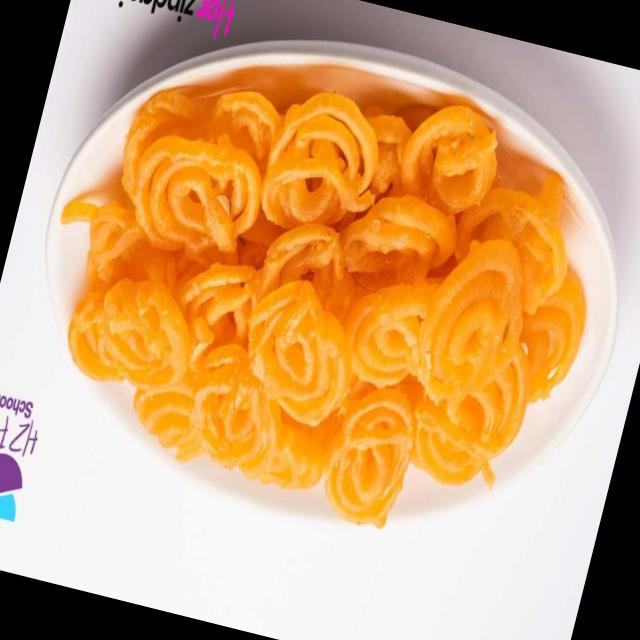jalebi: (12, 18, 639, 582)
